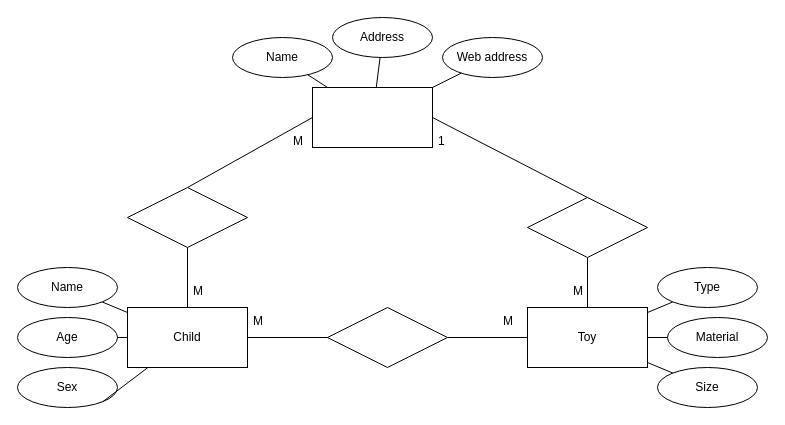
This 785x425 diagram has some shape labels left out. Each missing label, with the centre of its shape:
advertises to: the point at 187,217
makes: the point at 587,227
plays with: the point at 387,337
Toy Company: the point at 372,117
